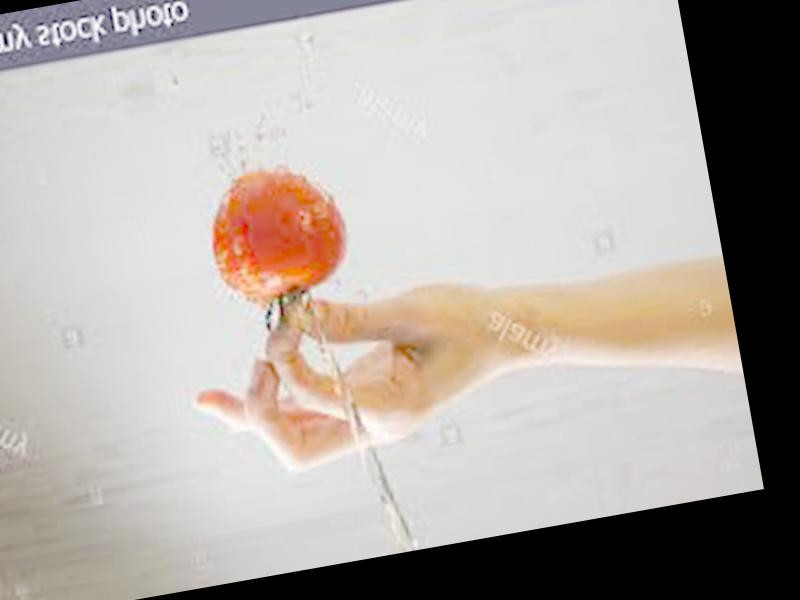Tomato: (204, 154, 359, 307)
